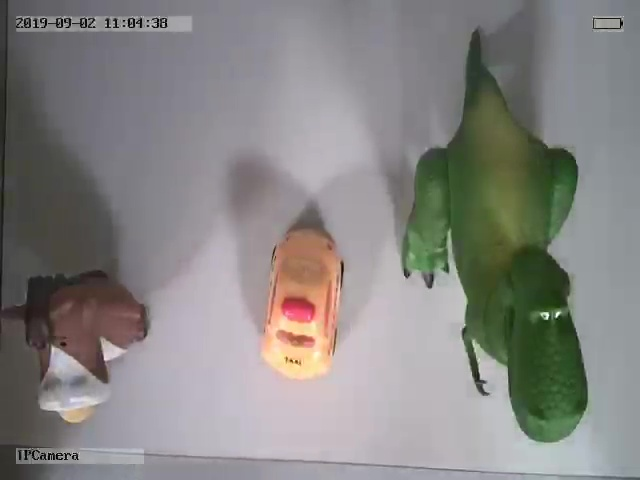car: (260, 225, 347, 378)
horse: (3, 269, 149, 423)
rex: (404, 49, 589, 442)
